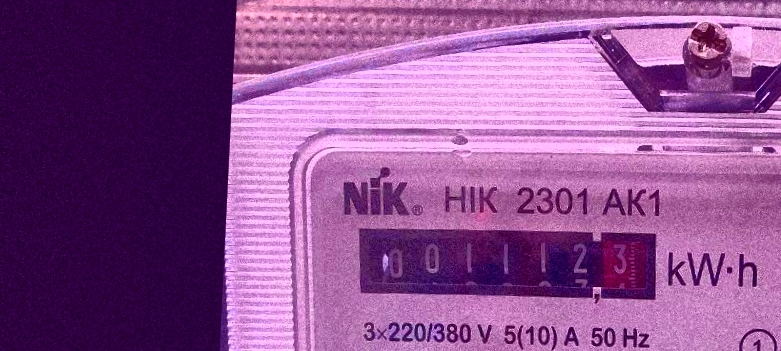0: (420, 239, 444, 278), (384, 244, 407, 280)
1: (459, 238, 479, 276), (497, 238, 513, 277), (535, 238, 551, 276)
2: (568, 240, 592, 277)
3: (609, 241, 629, 277)
screen: (349, 215, 665, 311)
